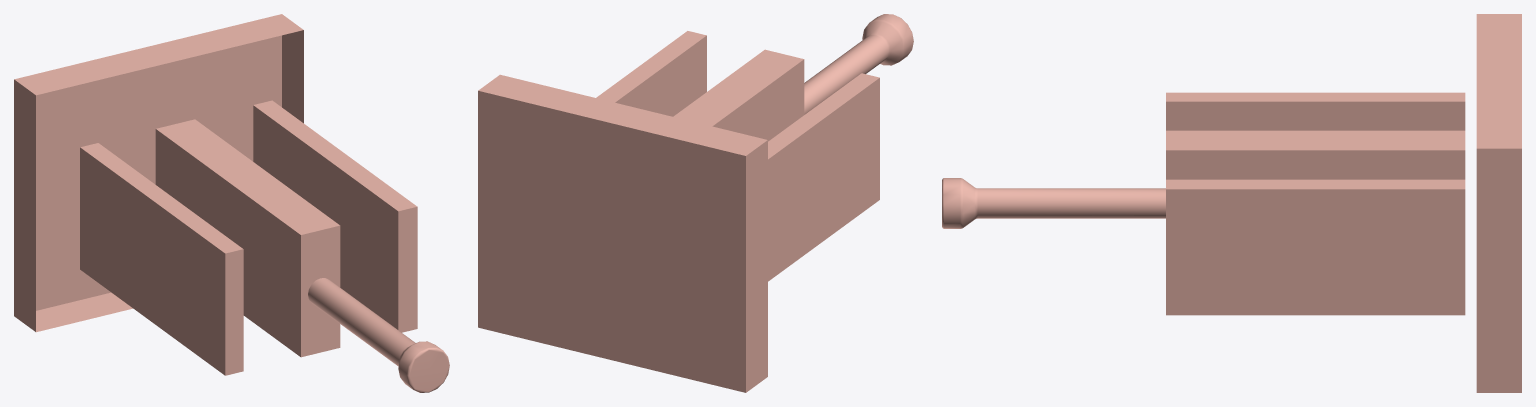
Rendered from MeshDeskLamp_2_0_GeomSubset_0.obj.
3 renders of one model, left to right at view 1: azimuth 30°, elevation 25°; view 2: azimuth 150°, elevation 25°; view 3: azimuth 270°, elevation 25°, orthographic. The views are drawn at different scales.
Parts seen in each view (by area): view 1: MeshDeskLamp_2_0_GeomSubset_0; view 2: MeshDeskLamp_2_0_GeomSubset_0; view 3: MeshDeskLamp_2_0_GeomSubset_0.
Boxes of the visible parts, bbox=[...] form: MeshDeskLamp_2_0_GeomSubset_0: bbox=[14, 14, 449, 392]; MeshDeskLamp_2_0_GeomSubset_0: bbox=[478, 14, 913, 392]; MeshDeskLamp_2_0_GeomSubset_0: bbox=[942, 14, 1521, 392].
Bounding box in the file's own units: 0.1674 × 0.1415 × 0.3044.
